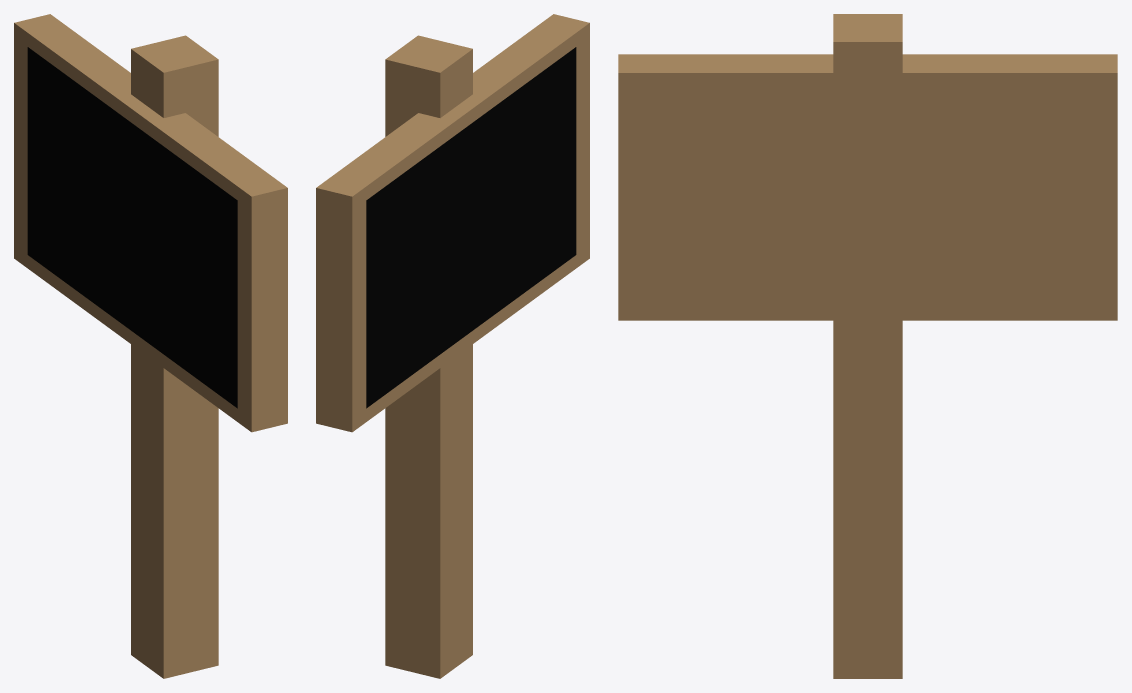
The model's file is PriceTagLP.fbx.
The picture shows the model from 3 angles, left to right: view 1: azimuth 30°, elevation 25°; view 2: azimuth 150°, elevation 25°; view 3: azimuth 270°, elevation 25°; orthographic projection. The views are drawn at different scales.
Parts seen in each view (by area): view 1: first tag; view 2: first tag; view 3: first tag.
Part boxes in pixels (<box>): first tag: <box>14,14,287,678</box>; first tag: <box>316,14,589,678</box>; first tag: <box>618,14,1117,678</box>.
Size of the model in its own units: 21.27 by 177 by 126.
